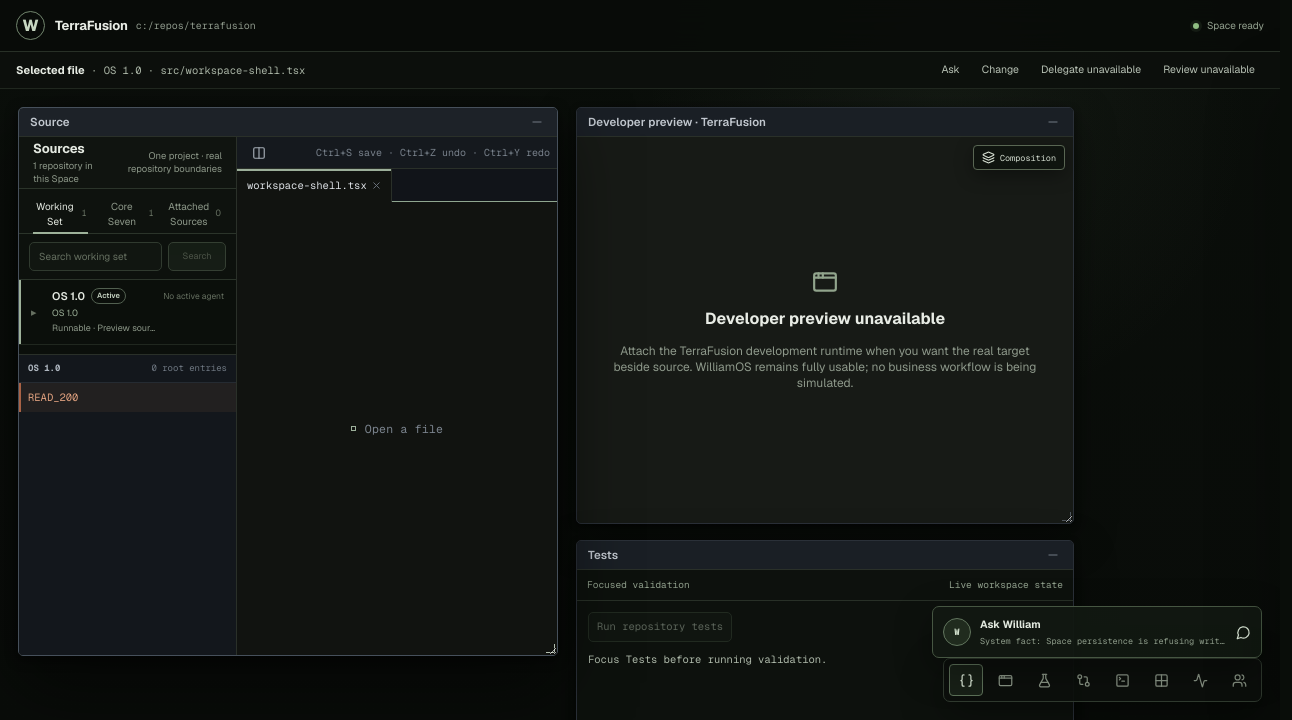
Scenario: durable William conversation rail › does not offer Override for fallback system facts without a validated judgment
The image size is (1292, 720).
Click the button with aria-label "Open William conversation" at [1097, 632], box [932, 606, 1262, 658]
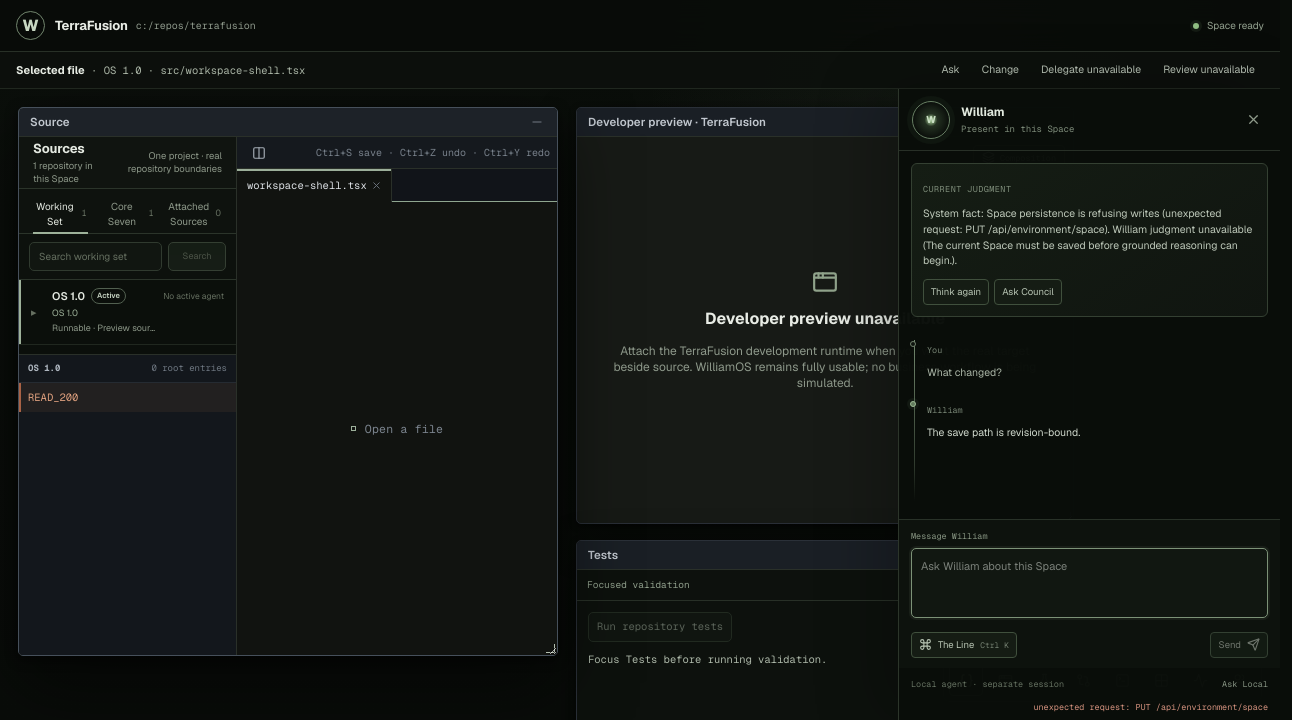
Check: the element named "William conversation" shows "System fact:", box [923, 206, 1252, 267]
